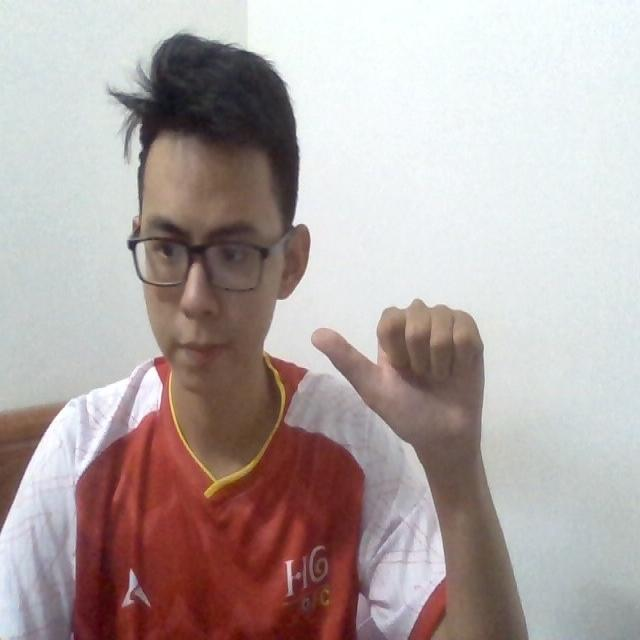A: (310, 296, 486, 449)
